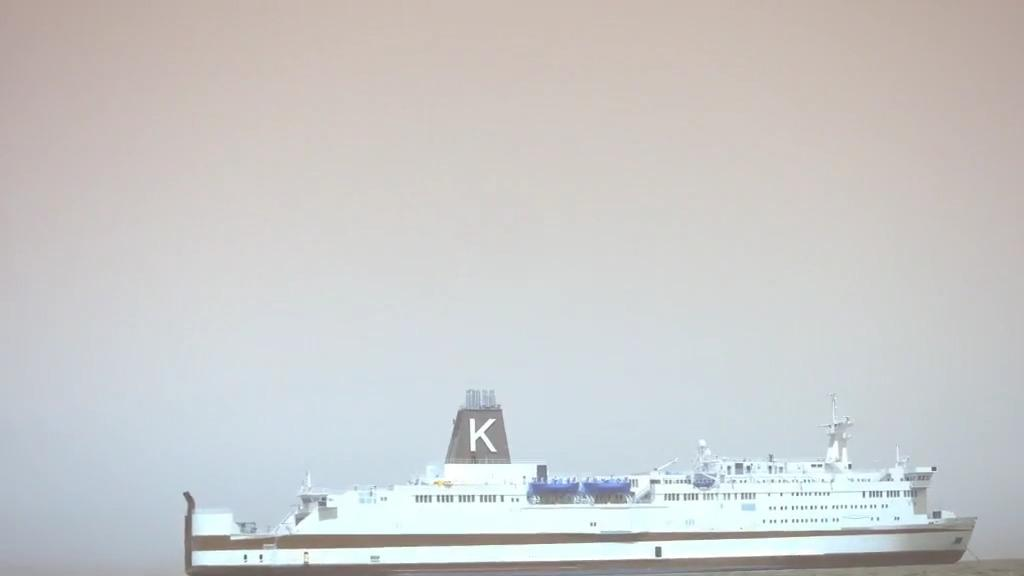PassengerShip: (177, 385, 979, 576)
